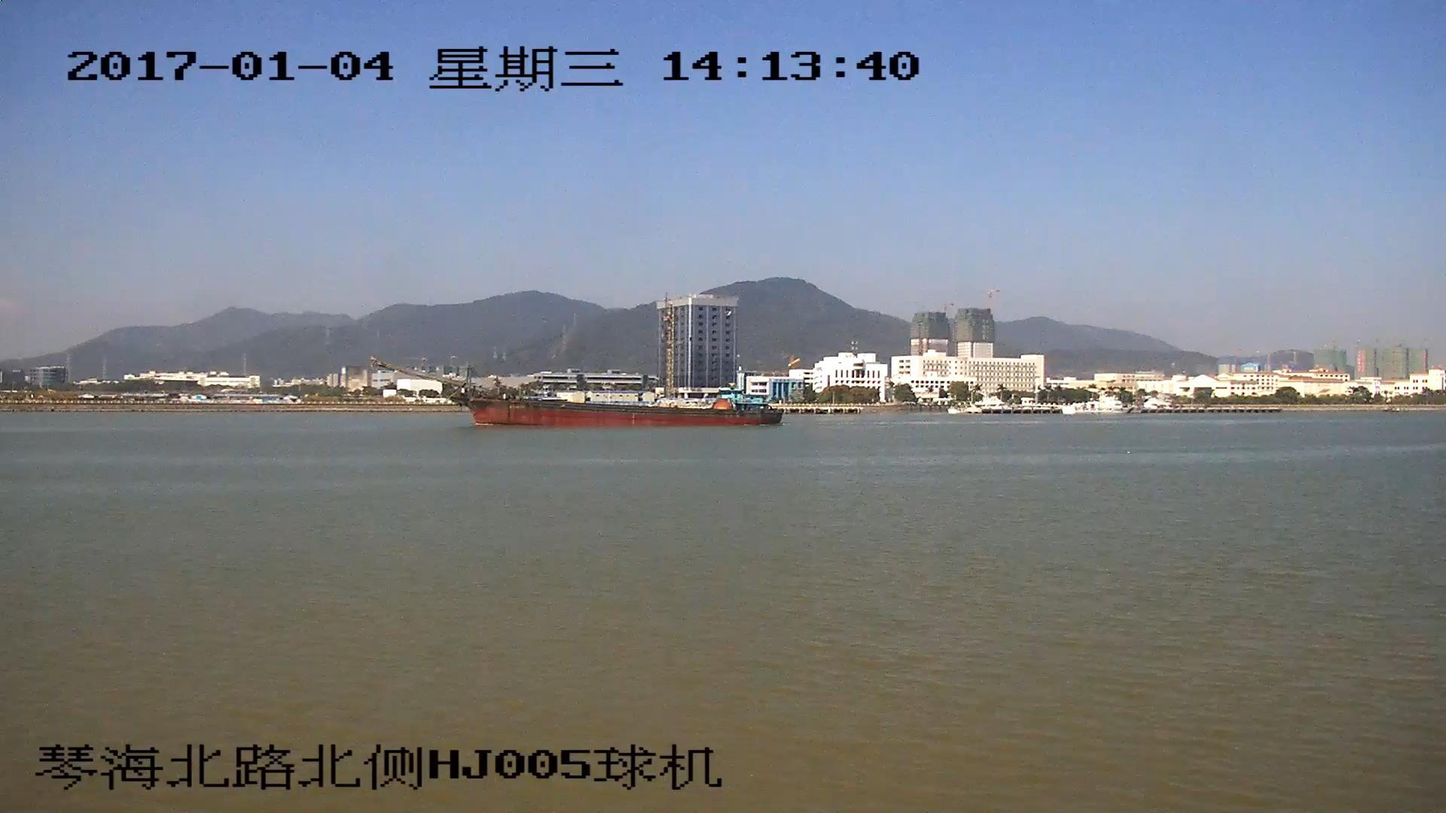bulk cargo carrier: (380, 363, 778, 427)
